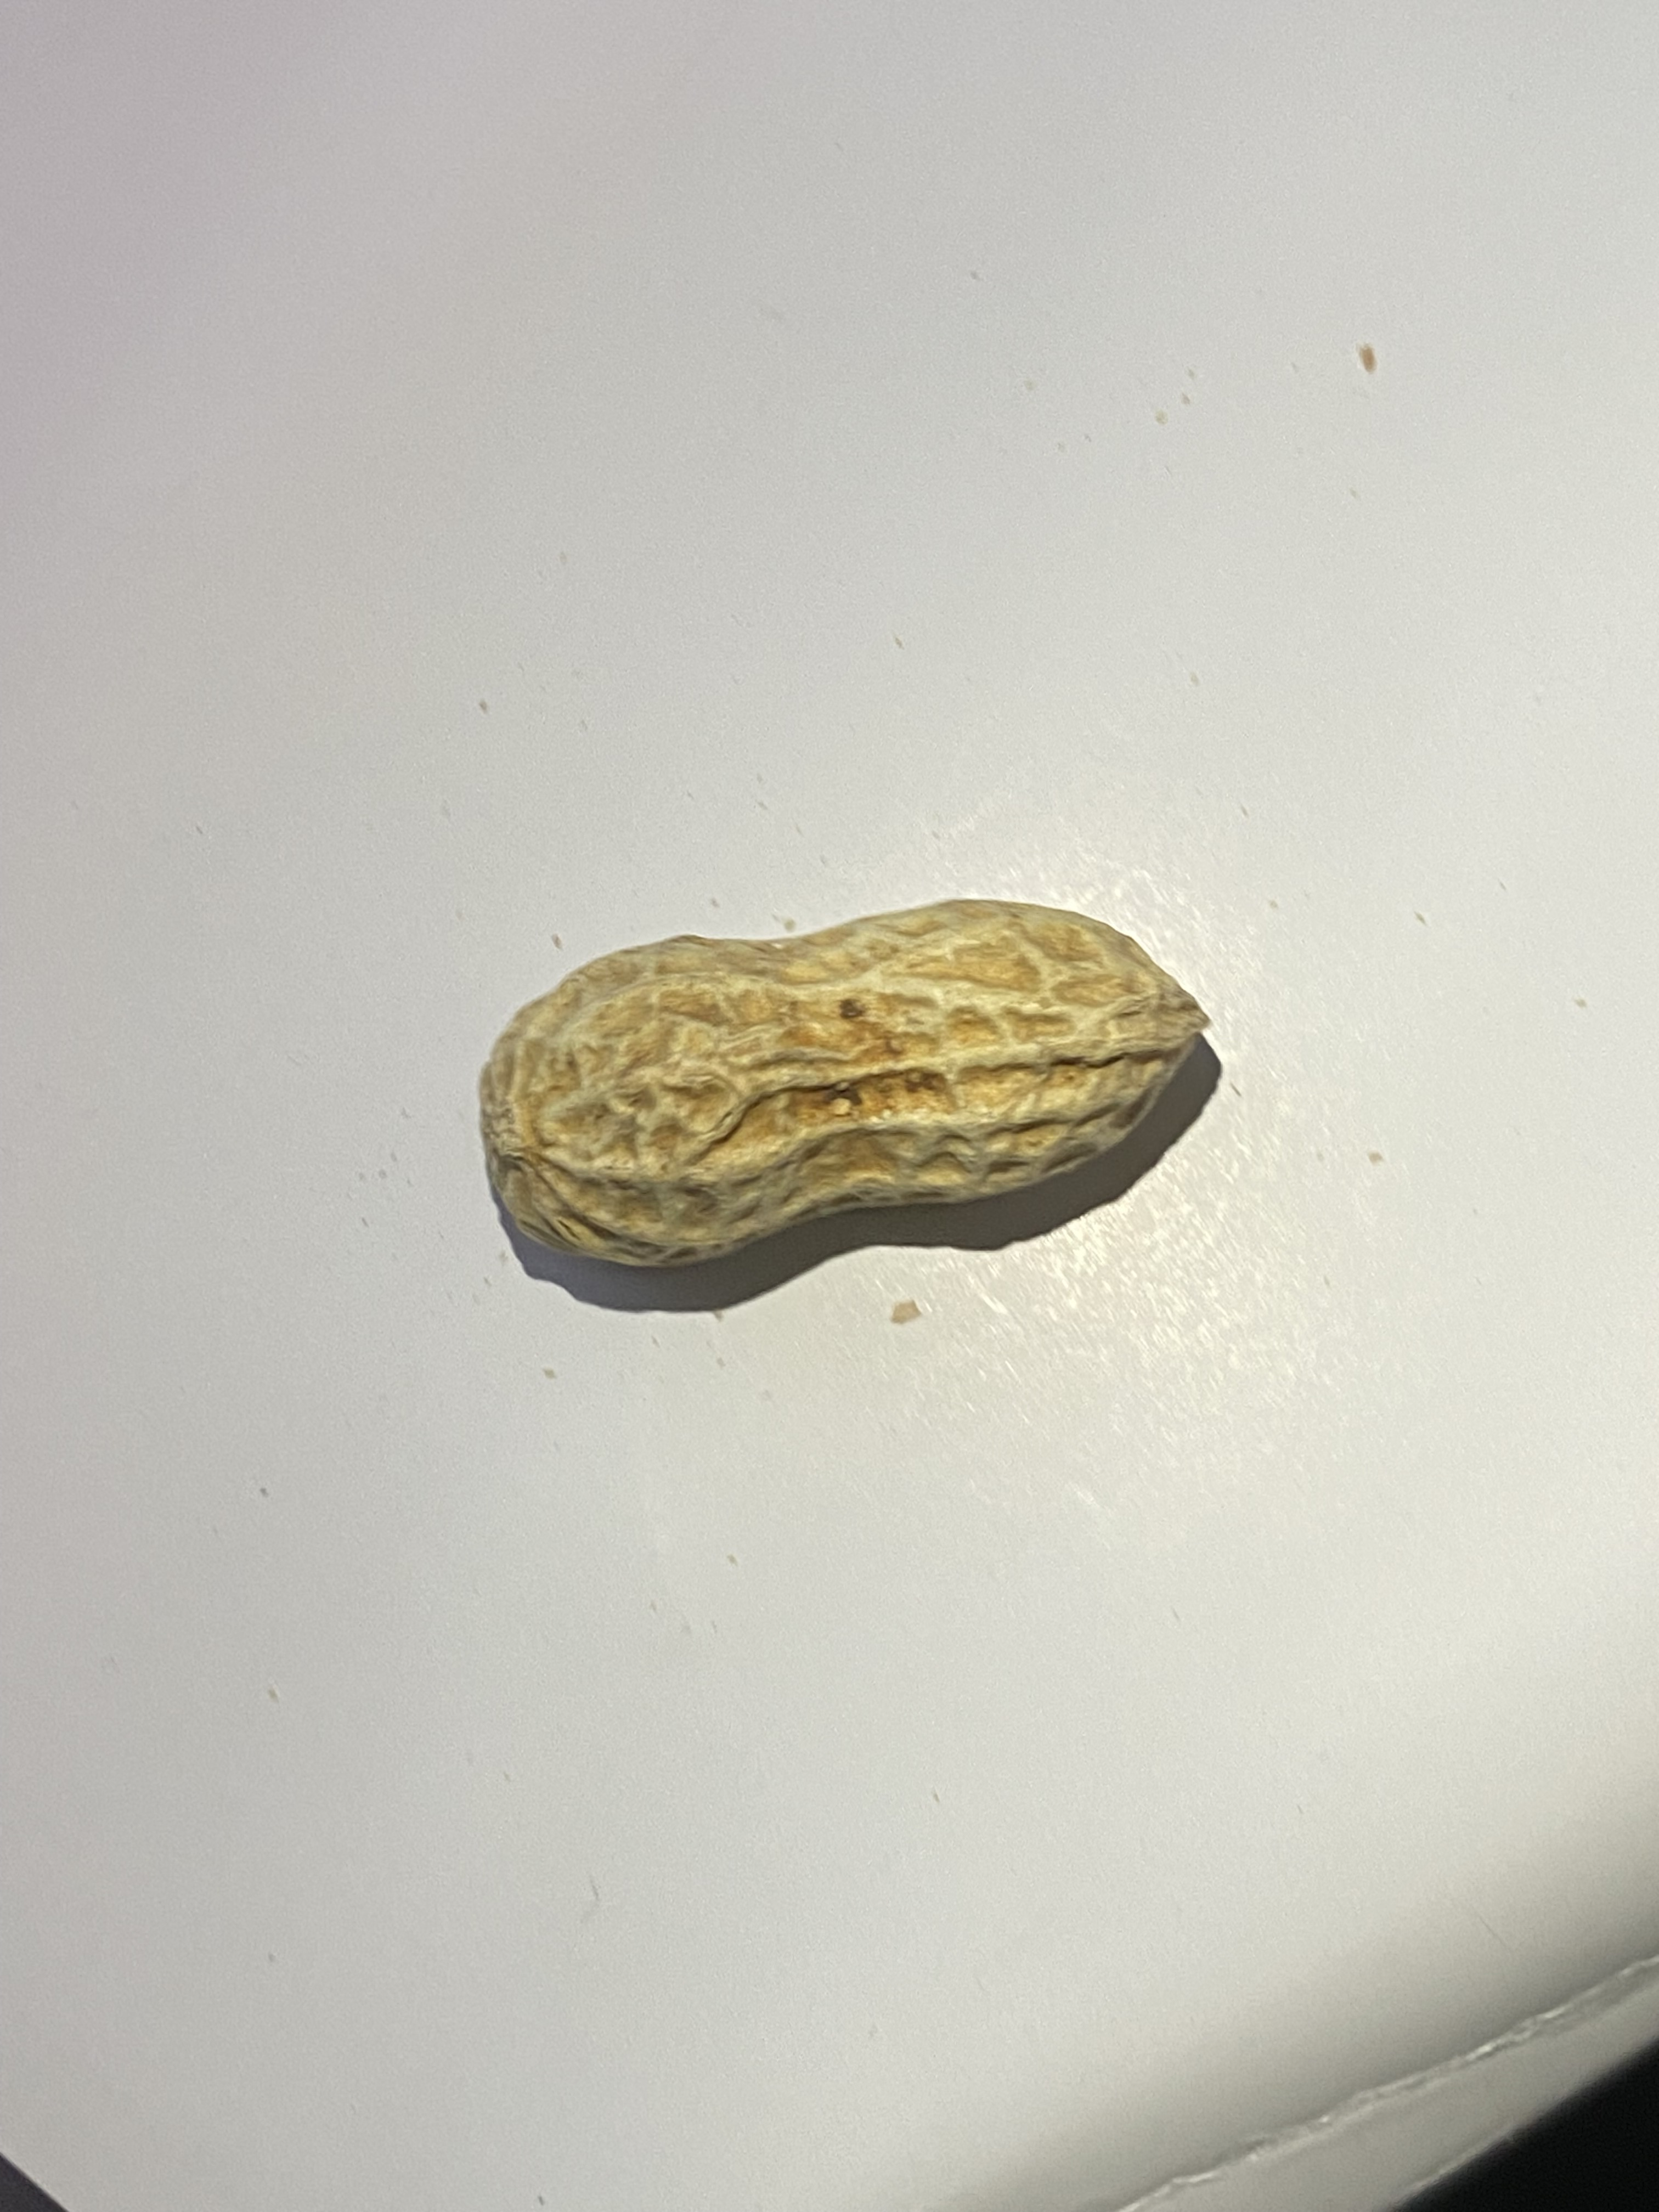kacang2: (474, 873, 1215, 1277)
